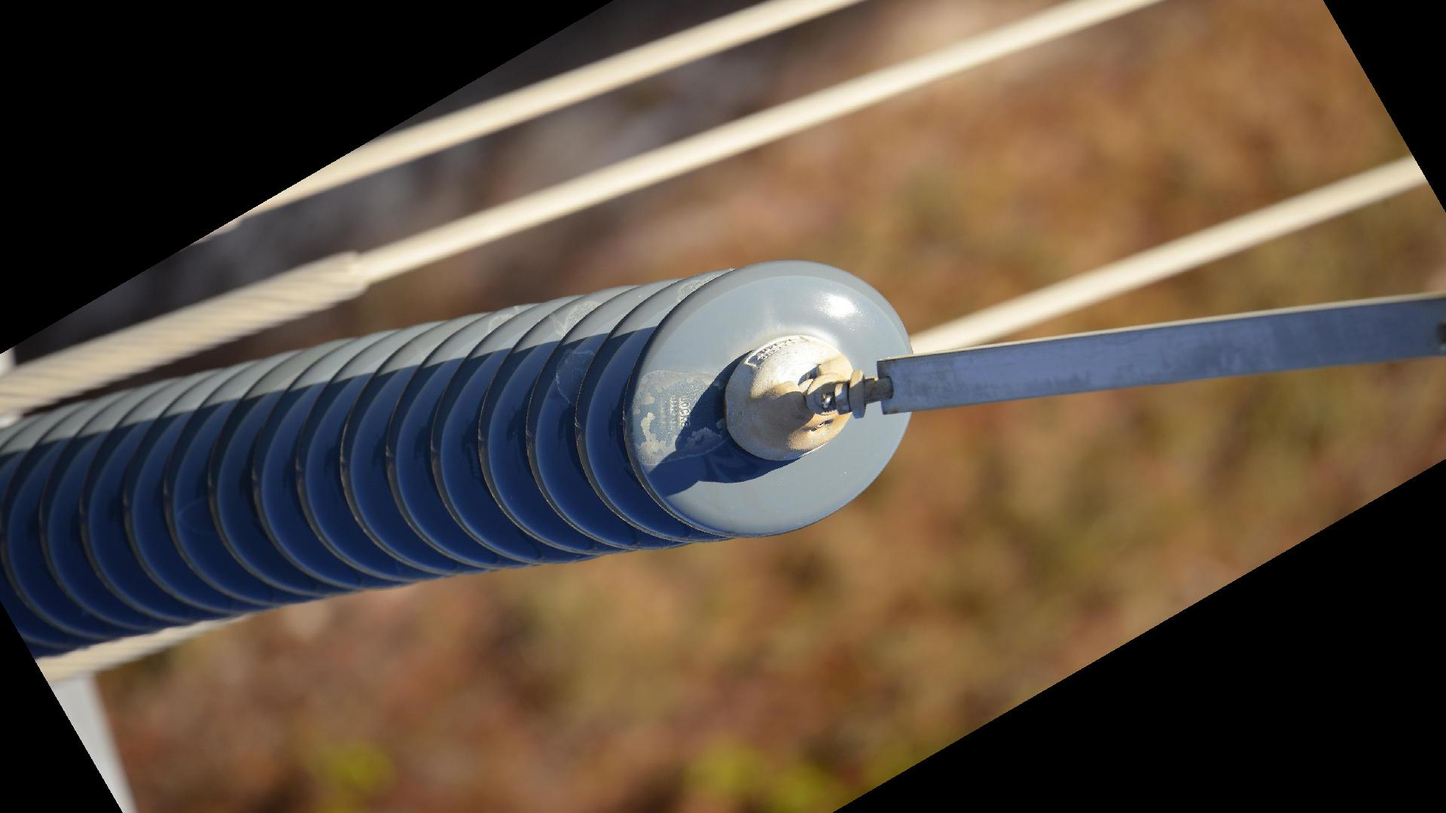insulator: (1, 254, 925, 669)
insulator_flashover: (621, 367, 734, 470)
